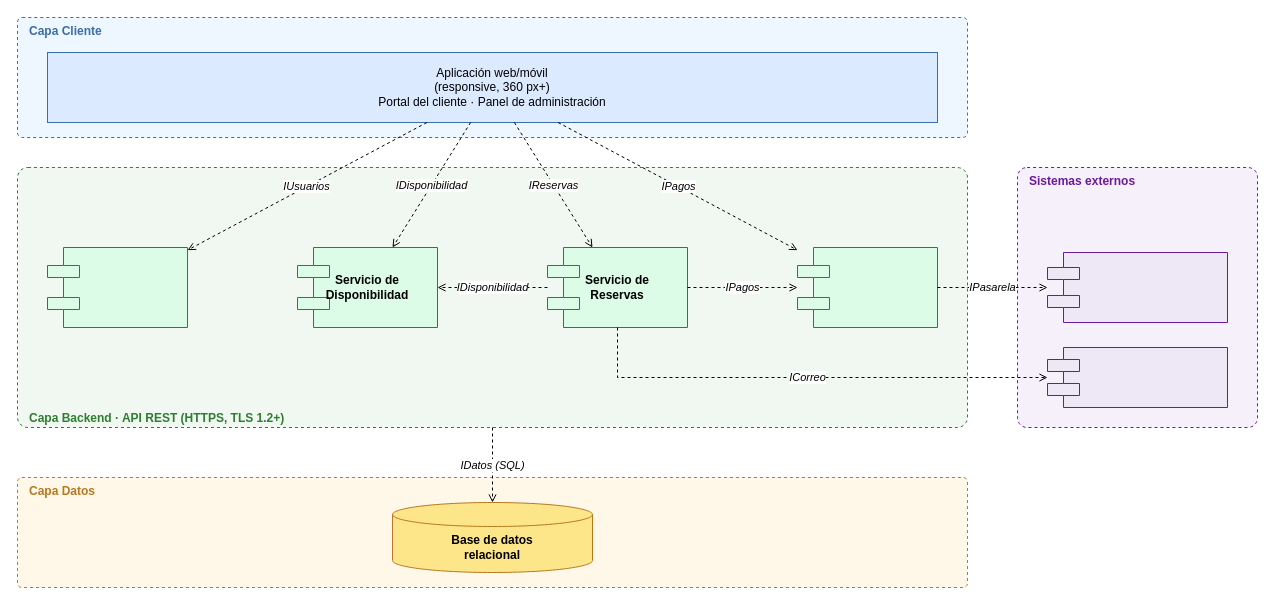
The diagram is 1275 pixels wide and 605 high, and some of its shapes have lost their labels. Each missing label, with the centre of its shape:
Pasarela de pago: the point at 1137,287
Servicio de correo: the point at 1137,377
Servicio de Pagos: the point at 867,287
Servicio de Usuarios: the point at 117,287
